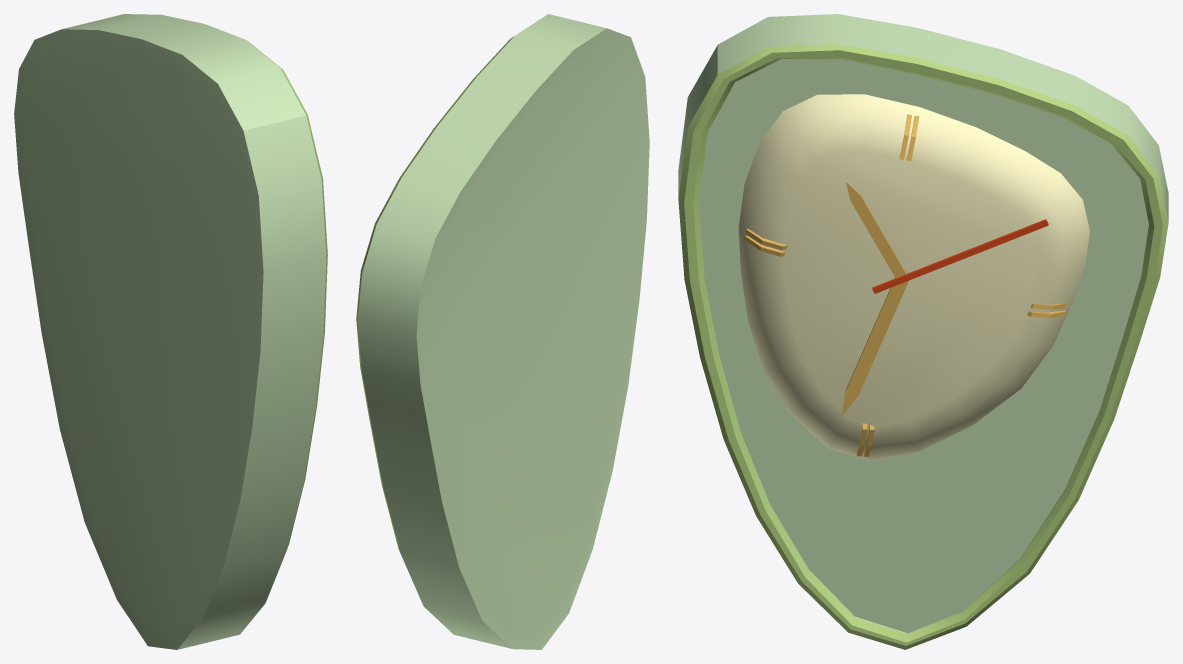
Rendered from Clock.fbx.
3 views of the same model, side by side, from view 1: azimuth 30°, elevation 25°; view 2: azimuth 150°, elevation 25°; view 3: azimuth 270°, elevation 25° (orthographic). The views are drawn at different scales.
Visible parts, largest first — view 1: Circle.002; view 2: Circle.002; view 3: Circle.002, Cube.002, Cube, Cube.001.
Part boxes in pixels (bbox=[...]): Circle.002: bbox=[14, 14, 327, 649]; Circle.002: bbox=[356, 14, 649, 649]; Circle.002: bbox=[678, 14, 1168, 649]; Cube.002: bbox=[842, 276, 908, 415]; Cube: bbox=[872, 219, 1048, 293]; Cube.001: bbox=[845, 181, 906, 277].
Size of the model in its own units: 138 by 629 by 858.
